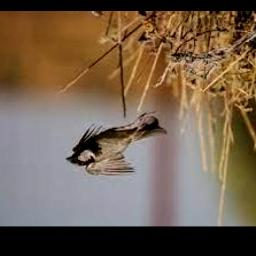Sparrow: (67, 111, 168, 177)
